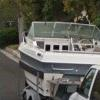Boat: (14, 15, 100, 100)
